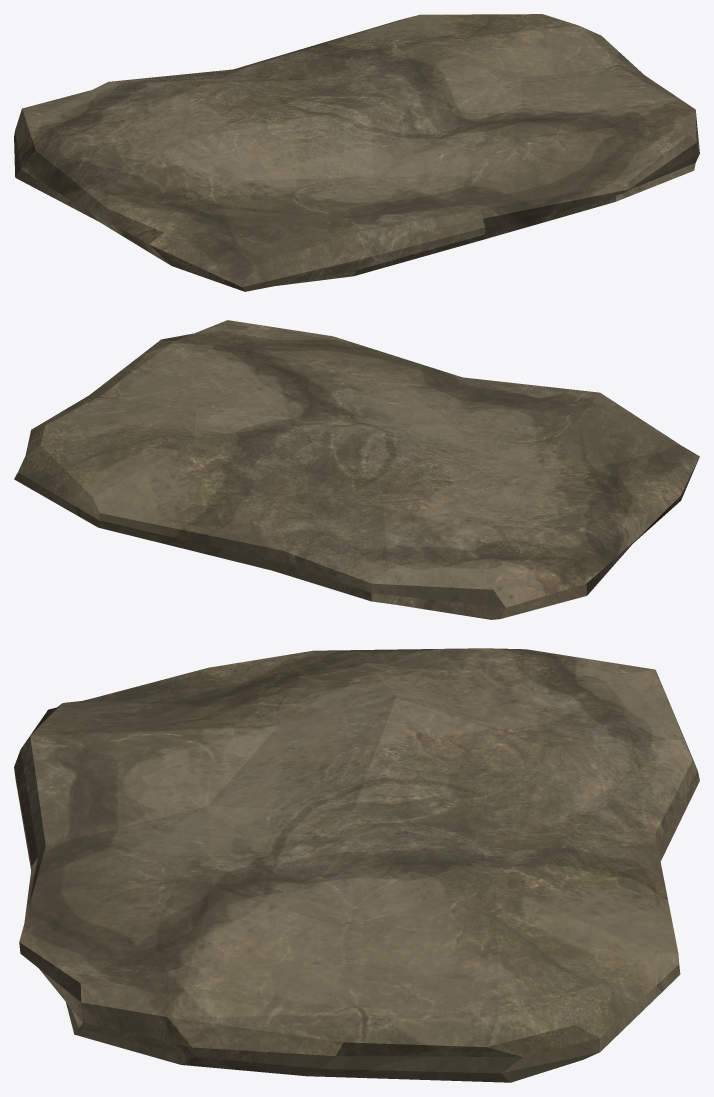
Rendered from HouseRock_2.fbx.
The picture shows the model from 3 angles, top to bottom: view 1: azimuth 30°, elevation 25°; view 2: azimuth 150°, elevation 25°; view 3: azimuth 270°, elevation 25°; orthographic projection. The views are drawn at different scales.
Visible parts, largest first — view 1: pCube2; view 2: pCube2; view 3: pCube2.
Part boxes in pixels (x1,y1,x2,y2): pCube2: [14, 14, 699, 291]; pCube2: [14, 320, 699, 619]; pCube2: [14, 648, 699, 1082].
Bounding box in the file's own units: 1255 × 143 × 916.
1 material, 1 textured.
